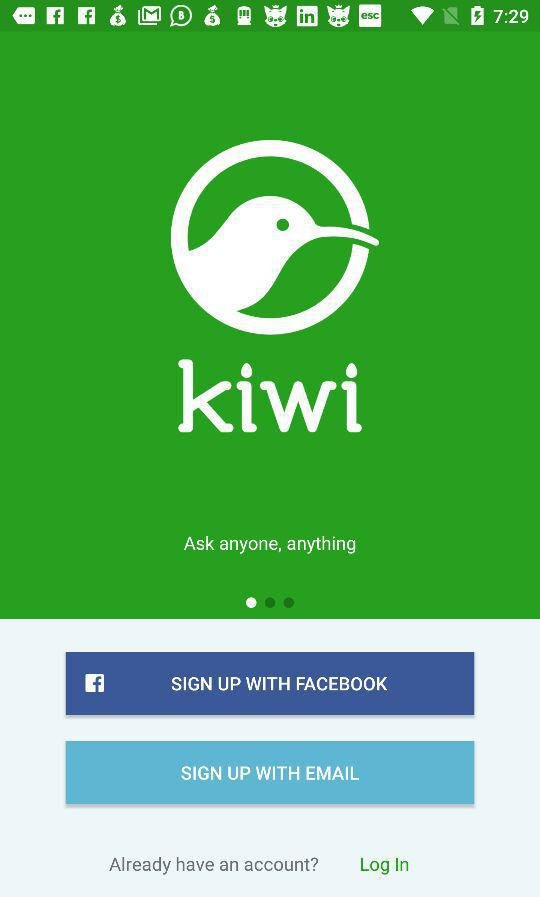Image: (170, 140, 381, 336), (177, 359, 364, 435)
PageIndicator: (245, 596, 296, 610)
Text: (109, 856, 319, 876), (183, 535, 357, 556), (360, 856, 409, 876)
TextButton: (66, 652, 475, 716), (66, 741, 474, 804)
UpperTaskBar: (1, 1, 540, 33)
